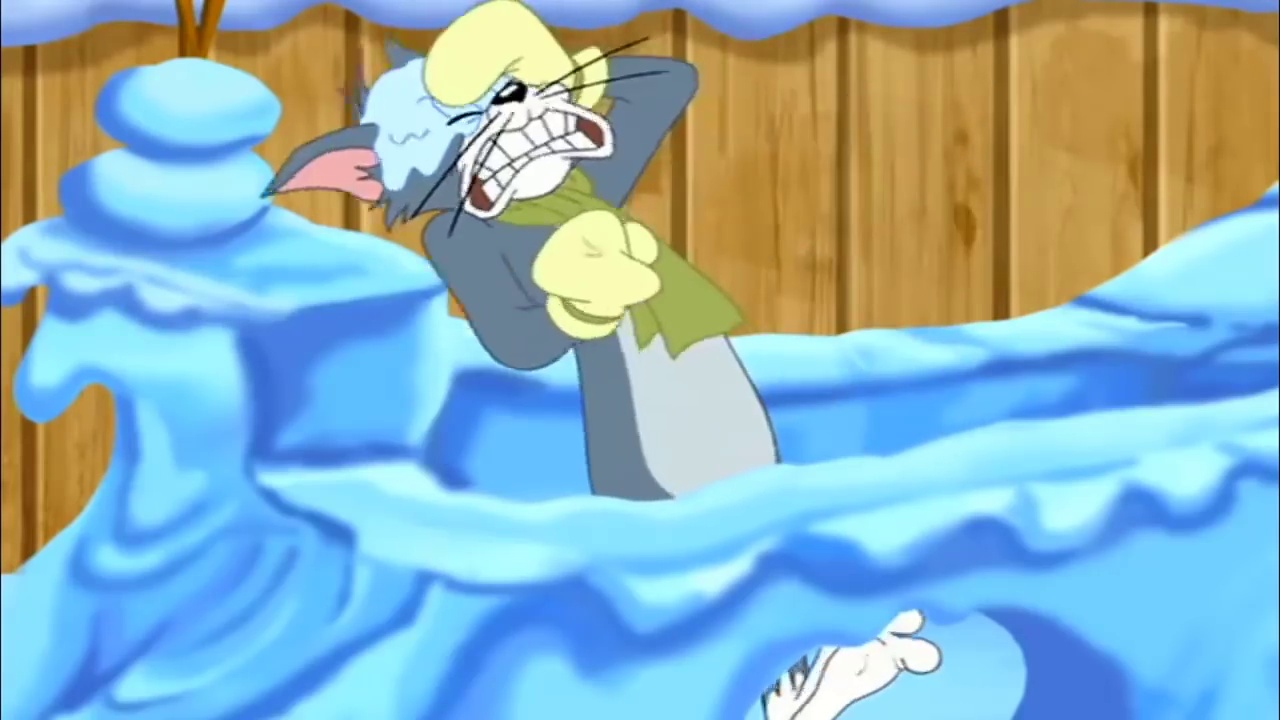face: (431, 73, 618, 219)
